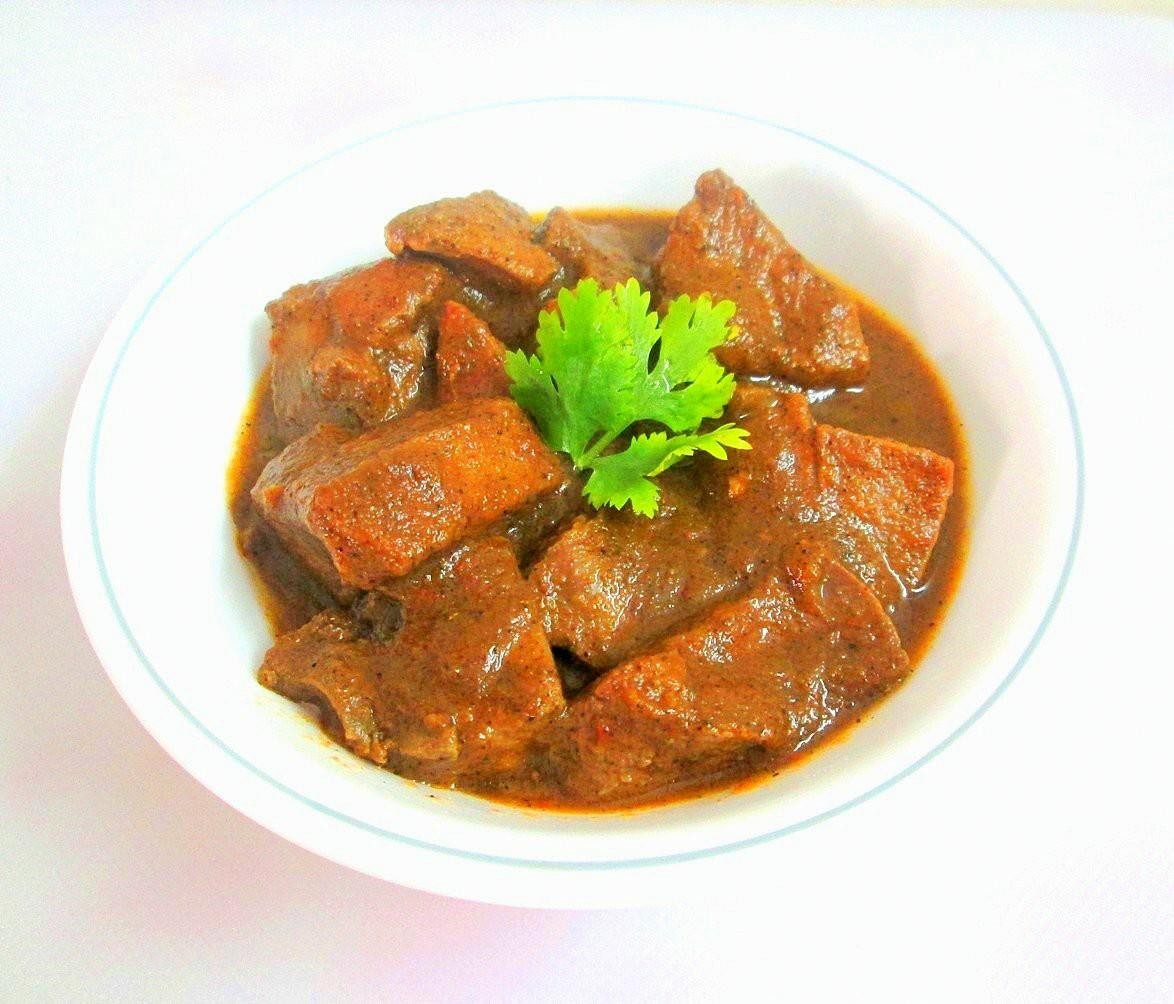MuttonCurry: (231, 164, 966, 816)
